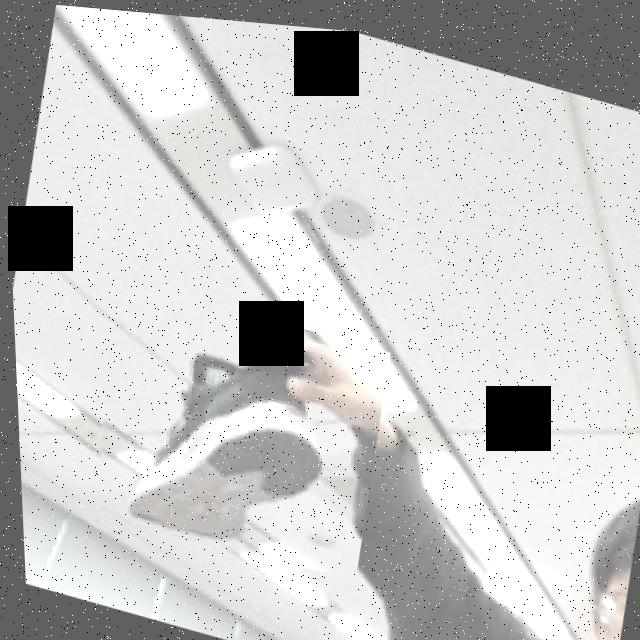shoe: (64, 270, 396, 592)
